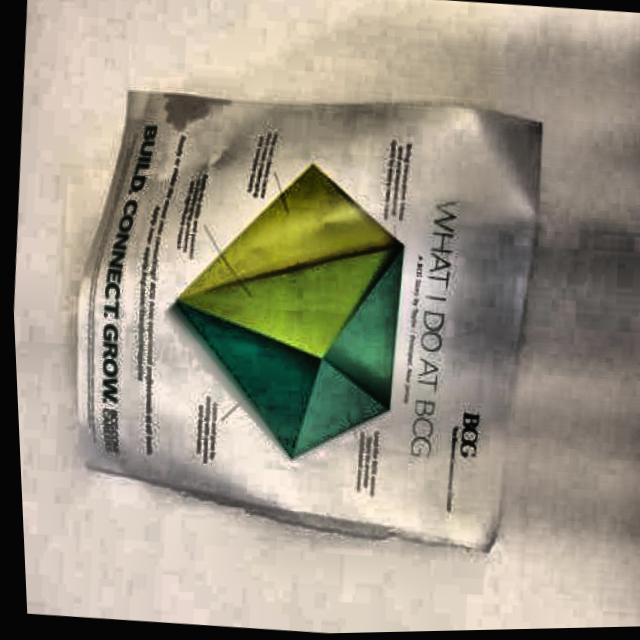Paper: (49, 76, 558, 564)
